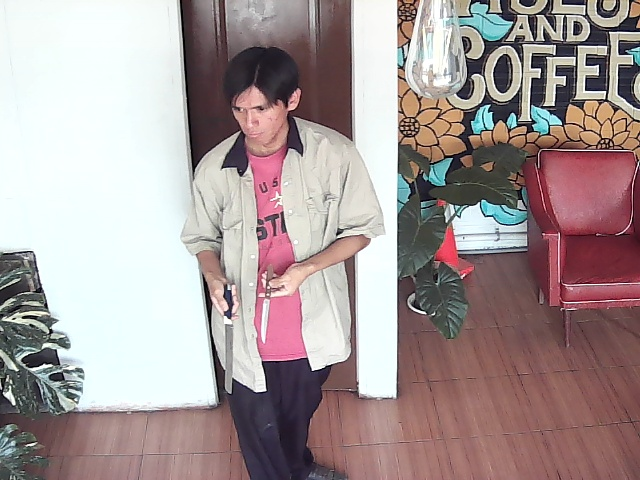cuchillo: (213, 278, 245, 397), (252, 261, 283, 350)
